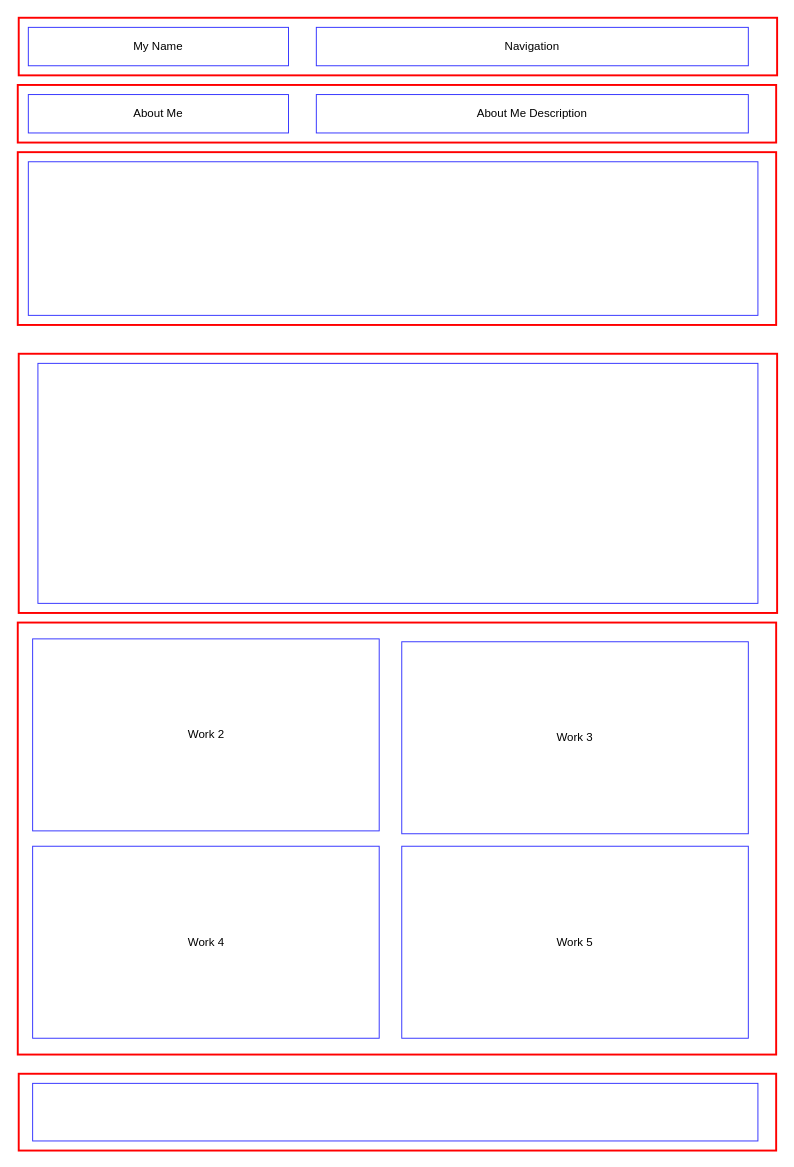
This 794x1167 diagram has some shape labels left out. The centre of each missing label's shape, as x and y in pixels:
"Contact Me" goes at point 395,1111.
"Hero Image" goes at point 392,238.
"Main Work" goes at point 397,482.
